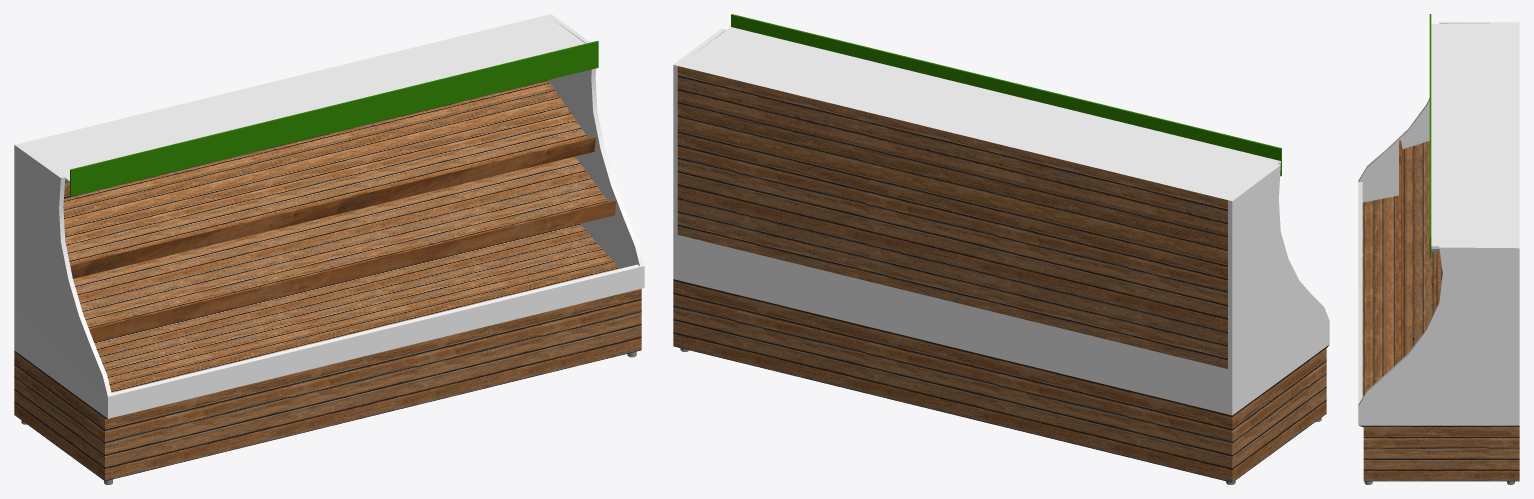
The model's file is ray_store_fruits_001.FBX.
The picture shows the model from 3 angles, left to right: view 1: azimuth 30°, elevation 25°; view 2: azimuth 150°, elevation 25°; view 3: azimuth 270°, elevation 25°; orthographic projection. The views are drawn at different scales.
Visible parts, largest first — view 1: ray_store_fruits_001; view 2: ray_store_fruits_001; view 3: ray_store_fruits_001.
Boxes of the visible parts, left/top/right/bottom form: ray_store_fruits_001: left=14, top=14, right=644, bottom=484; ray_store_fruits_001: left=673, top=14, right=1329, bottom=484; ray_store_fruits_001: left=1358, top=14, right=1519, bottom=484.
Size of the model in its own units: 4.92 by 2.52 by 1.48.
